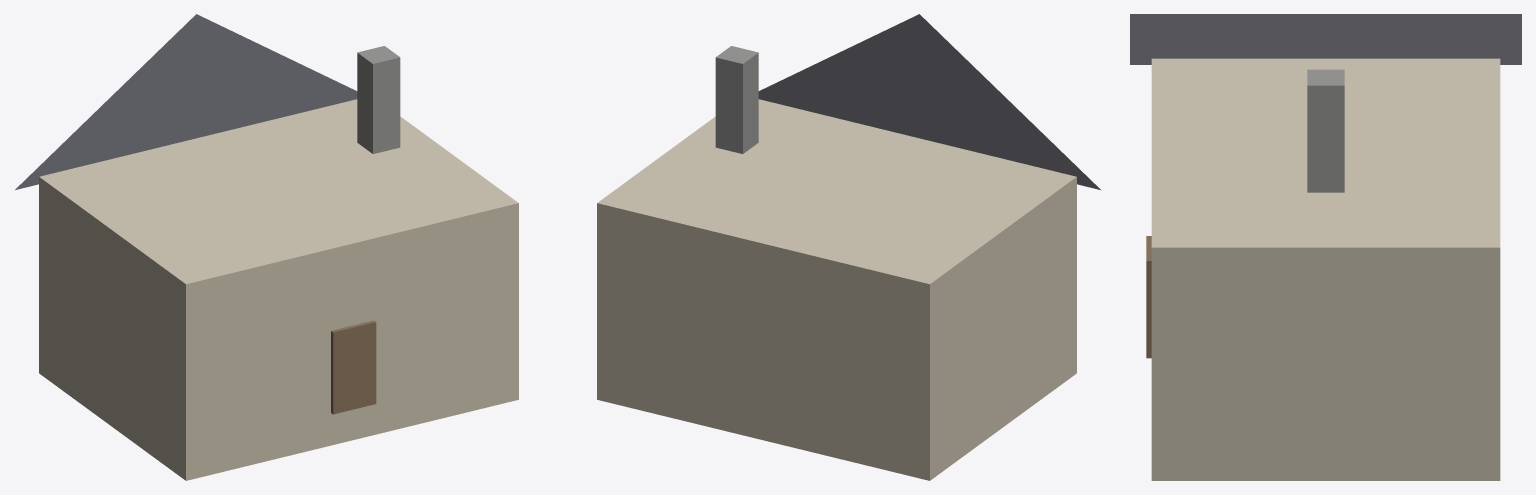
Rendered from house_2.glb.
The picture shows the model from 3 angles, left to right: view 1: azimuth 30°, elevation 25°; view 2: azimuth 150°, elevation 25°; view 3: azimuth 270°, elevation 25°; orthographic projection. The views are drawn at different scales.
Bounding box in the file's own units: 9.3 × 7.62 × 7.3.
